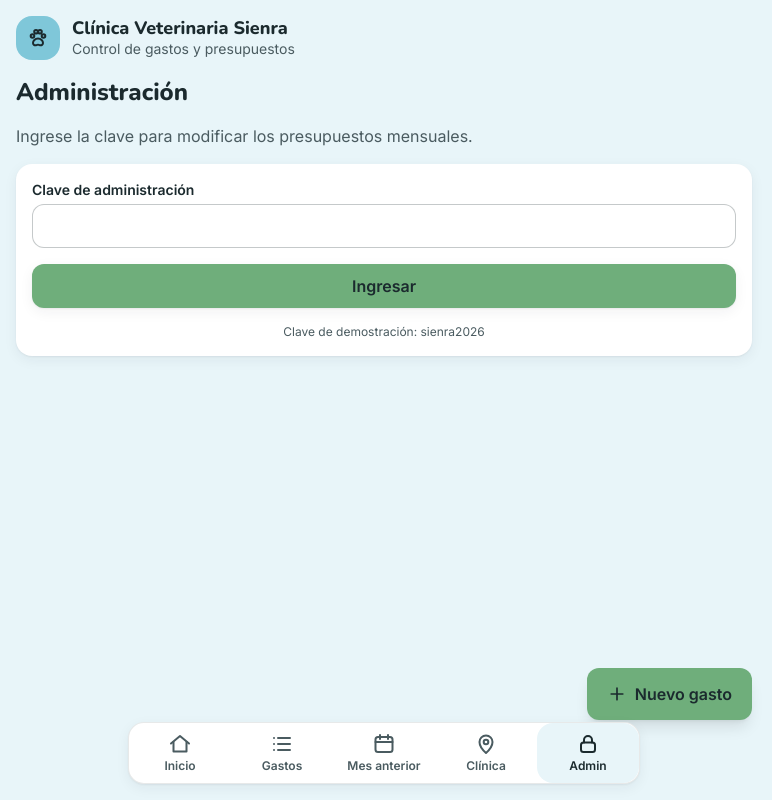
Budget editor › rejects the budget -5
The width and height of the screenshot is (772, 800).
Type "sienra2026" into the password field labelled "Clave de administración" at (384, 226), box [32, 204, 736, 248]
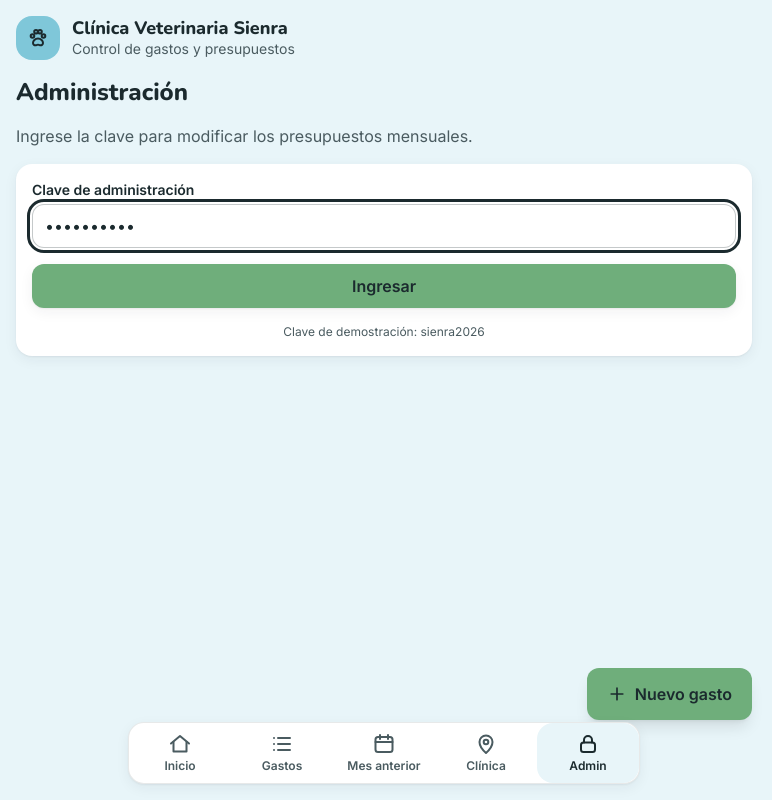
Click the button "Ingresar" at (384, 286), box [32, 264, 736, 308]
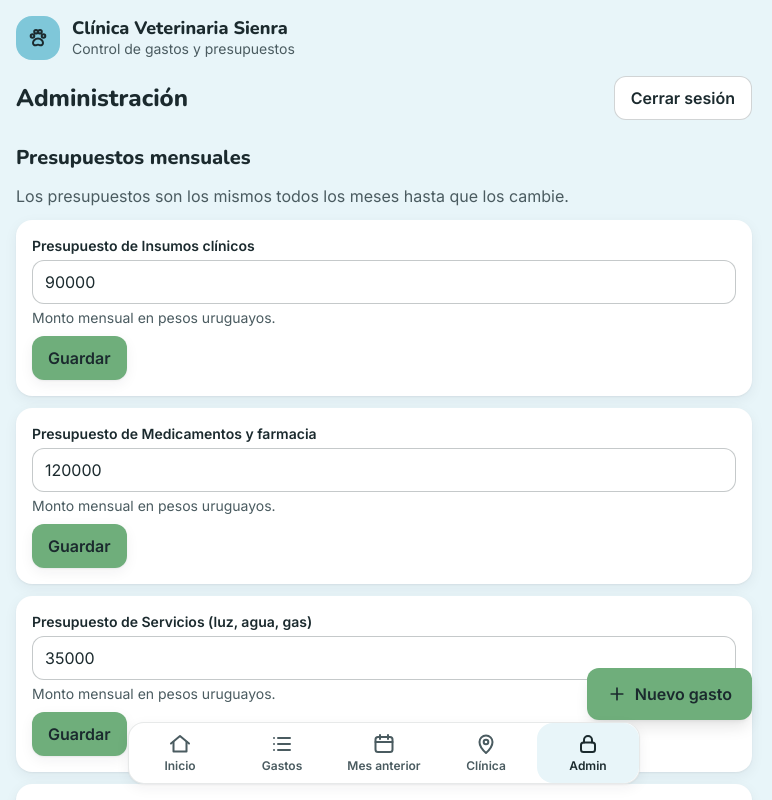
Replace the text in the field labelled "Presupuesto de Servicios (luz, agua, gas)" with "-5" at (384, 658), box [32, 636, 736, 680]
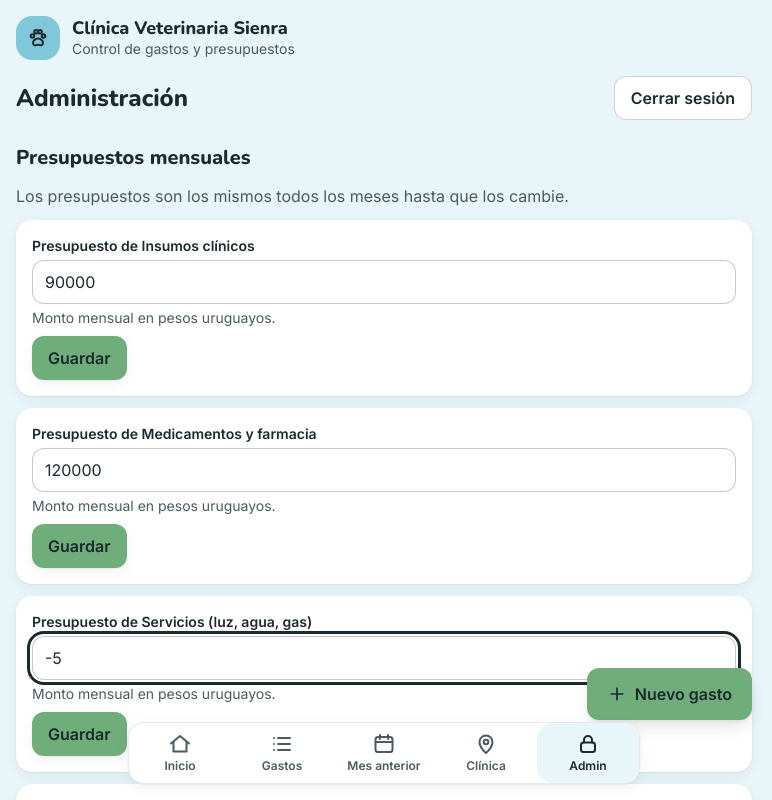
Click the button with aria-label "Guardar presupuesto de Servicios (luz, agua, gas)" at (79, 734), box [32, 712, 126, 756]
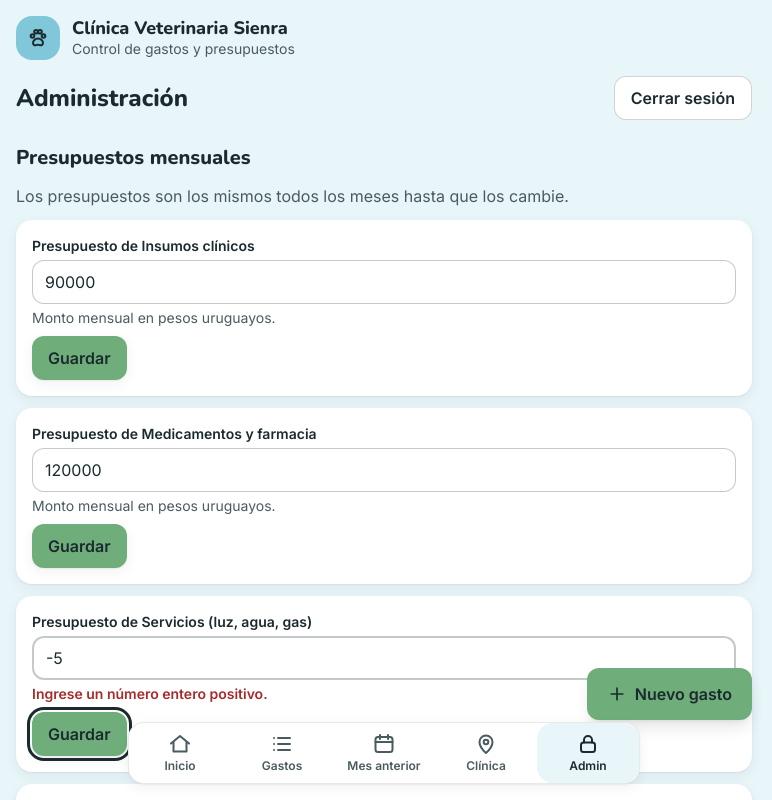
Check: the text "Ingrese un número entero positivo." is shown, box [32, 685, 268, 702]
